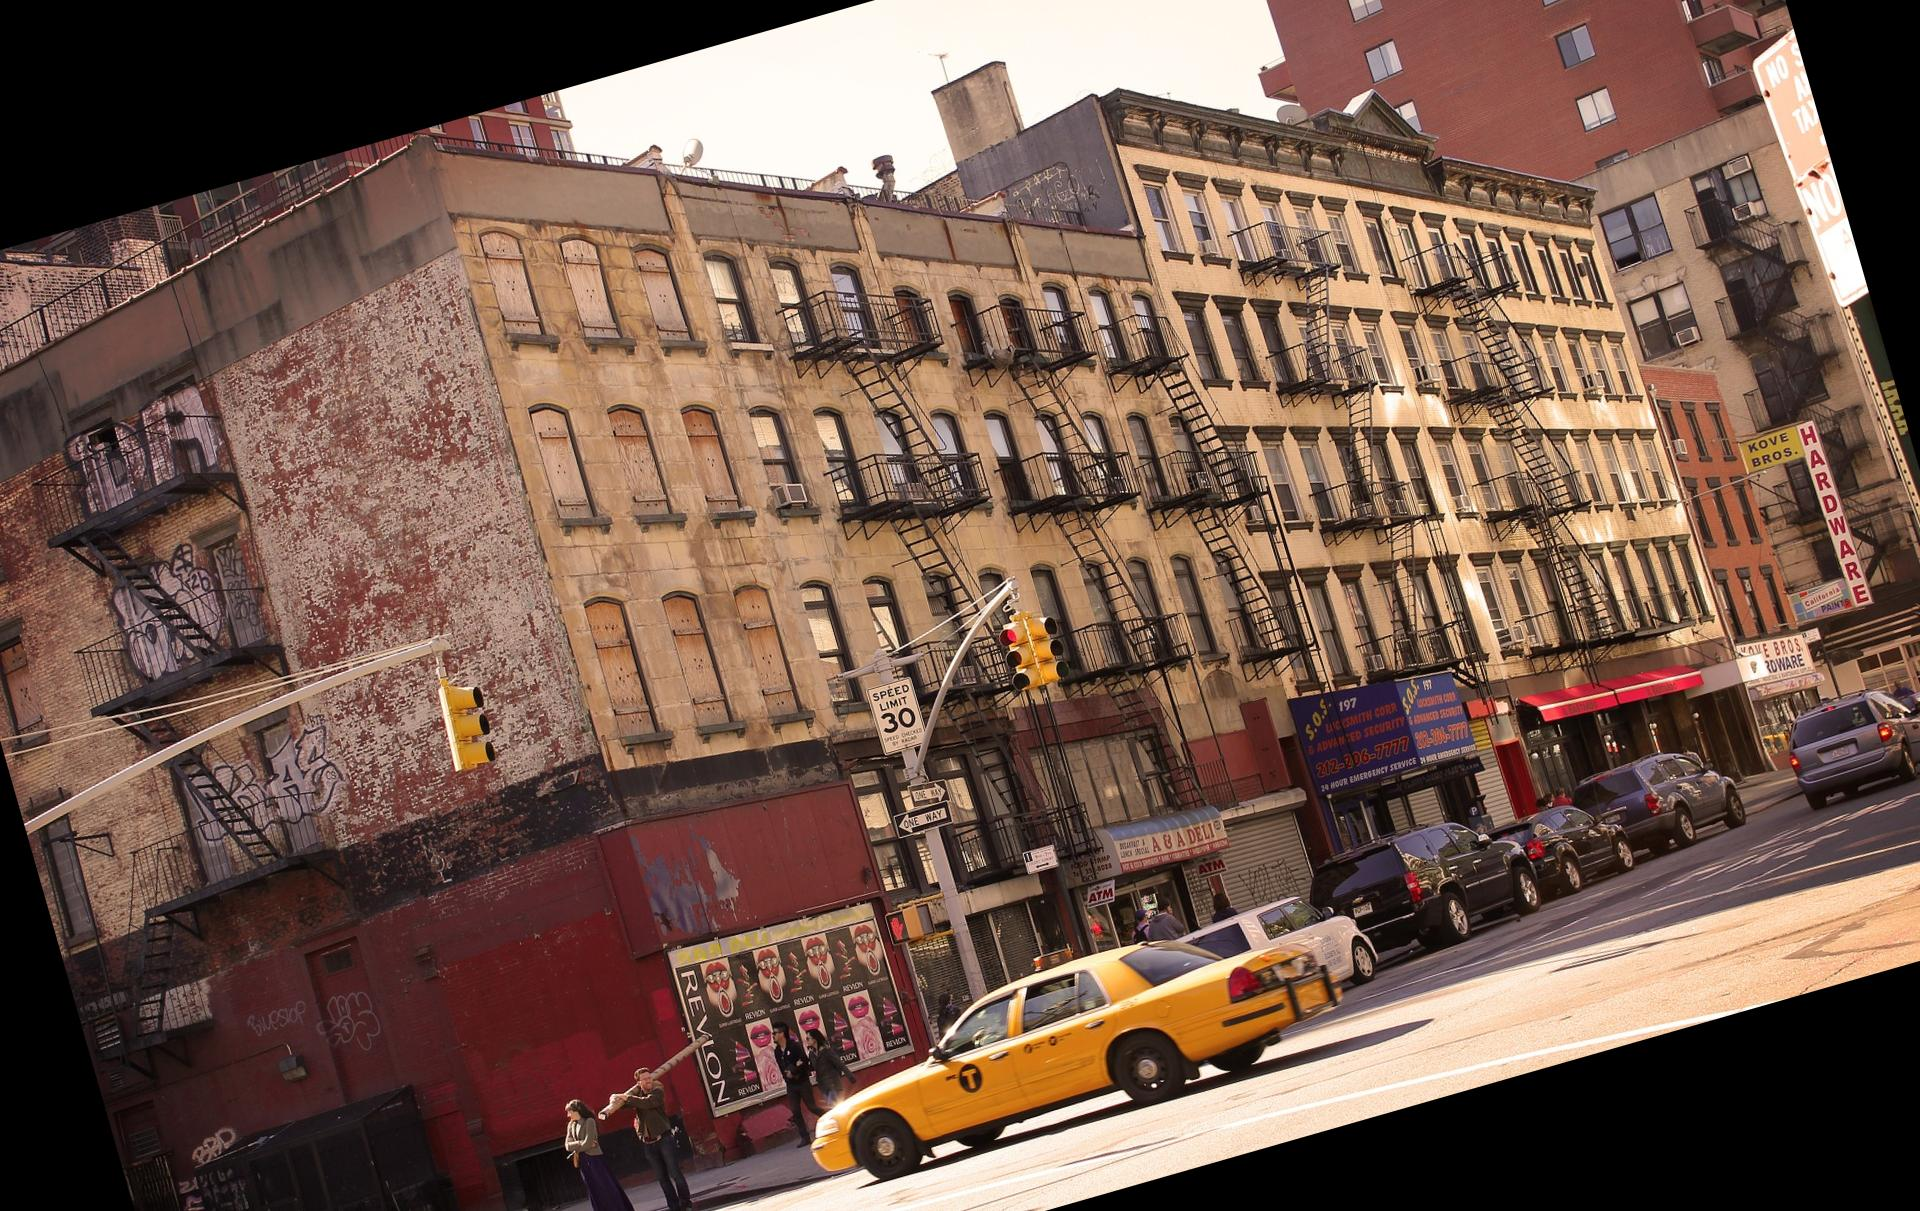taxi: (797, 912, 1344, 1183)
